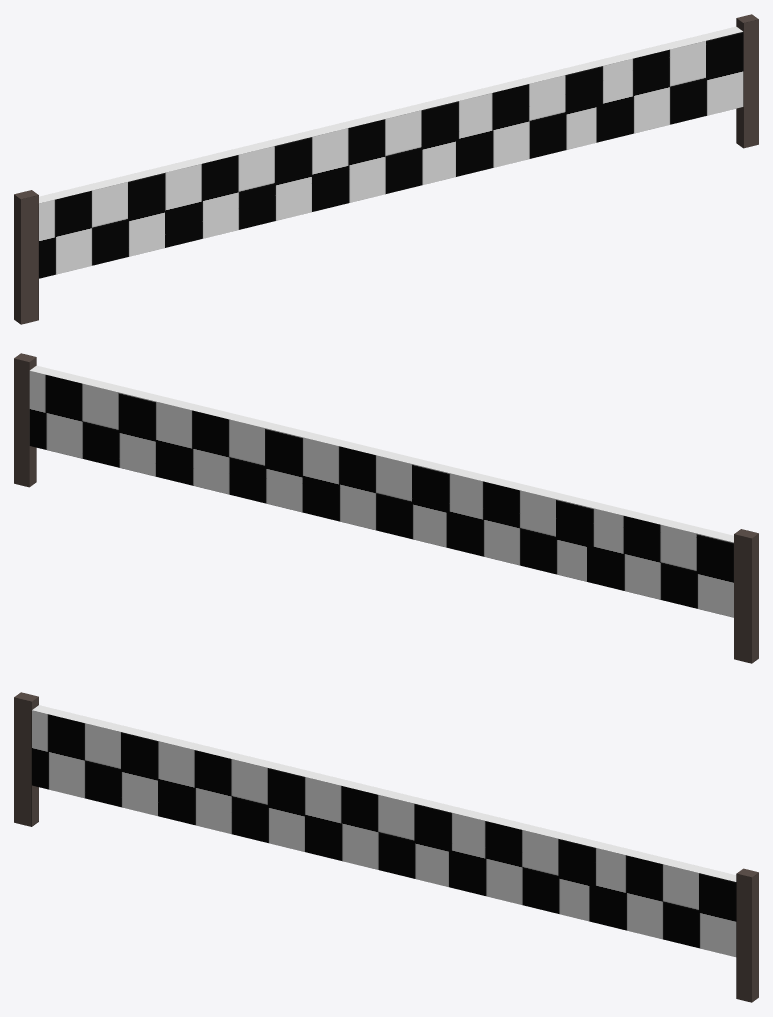
File: Goal.fbx
3 renders of one model, top to bottom at view 1: azimuth 30°, elevation 25°; view 2: azimuth 150°, elevation 25°; view 3: azimuth 330°, elevation 25°, orthographic.
Parts seen in each view (by area): view 1: Plane; view 2: Plane; view 3: Plane.
Part boxes in pixels (<box>): Plane: <box>14,14,758,324</box>; Plane: <box>14,353,758,663</box>; Plane: <box>14,692,758,1002</box>.
Size of the model in its own units: 917 by 149 by 15.17.
1 material, 1 textured.
